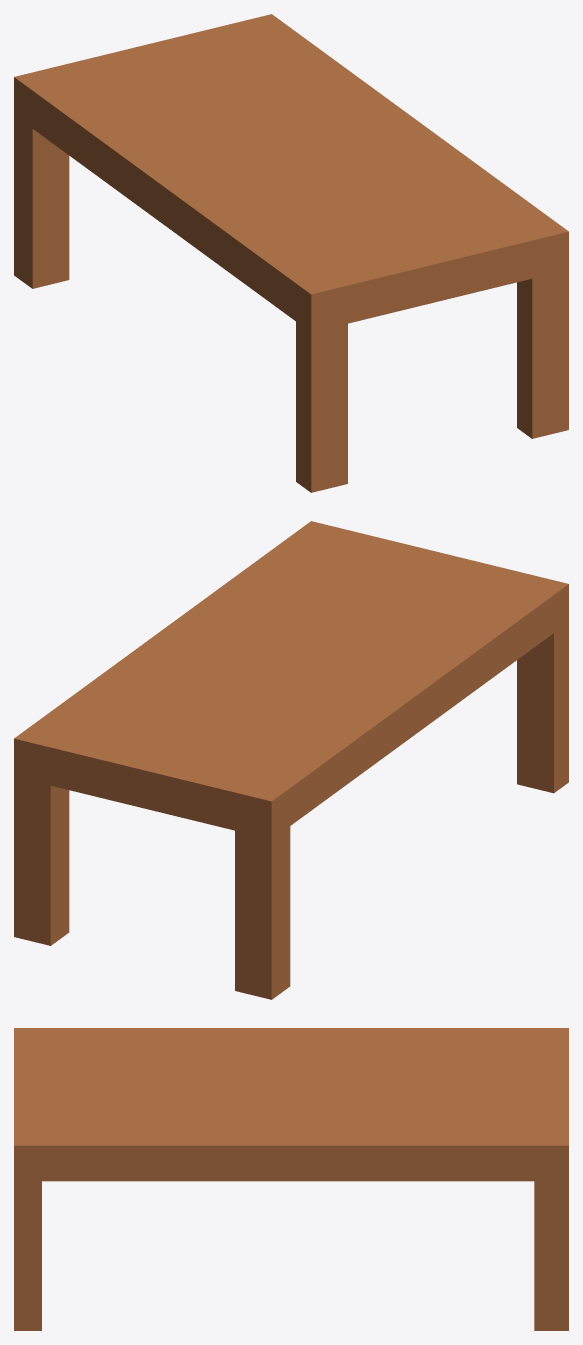
File: Table.fbx
The picture shows the model from 3 angles, top to bottom: view 1: azimuth 30°, elevation 25°; view 2: azimuth 150°, elevation 25°; view 3: azimuth 270°, elevation 25°; orthographic projection. The views are drawn at different scales.
Visible parts, largest first — view 1: Table; view 2: Table; view 3: Table.
Boxes of the visible parts, x1,y1,x2,y2 form: Table: (14,14,568,492); Table: (14,521,568,999); Table: (14,1028,568,1330).
Bounding box in the file's own units: 200 × 147 × 399.
